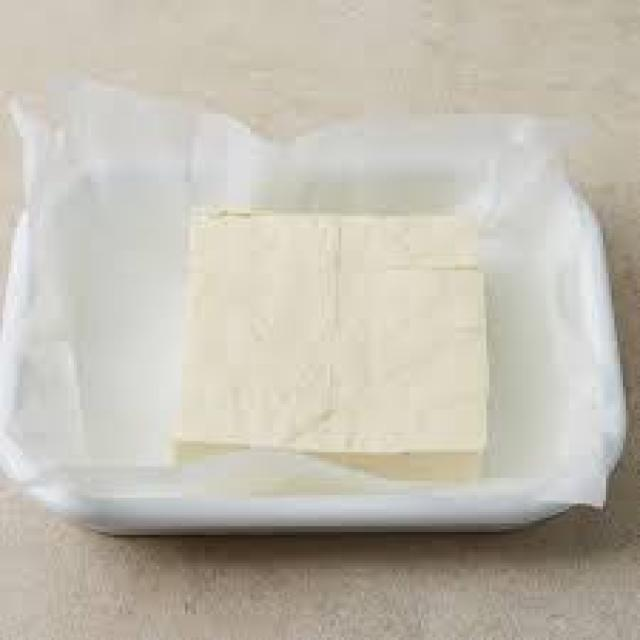tofu: (167, 192, 511, 478)
